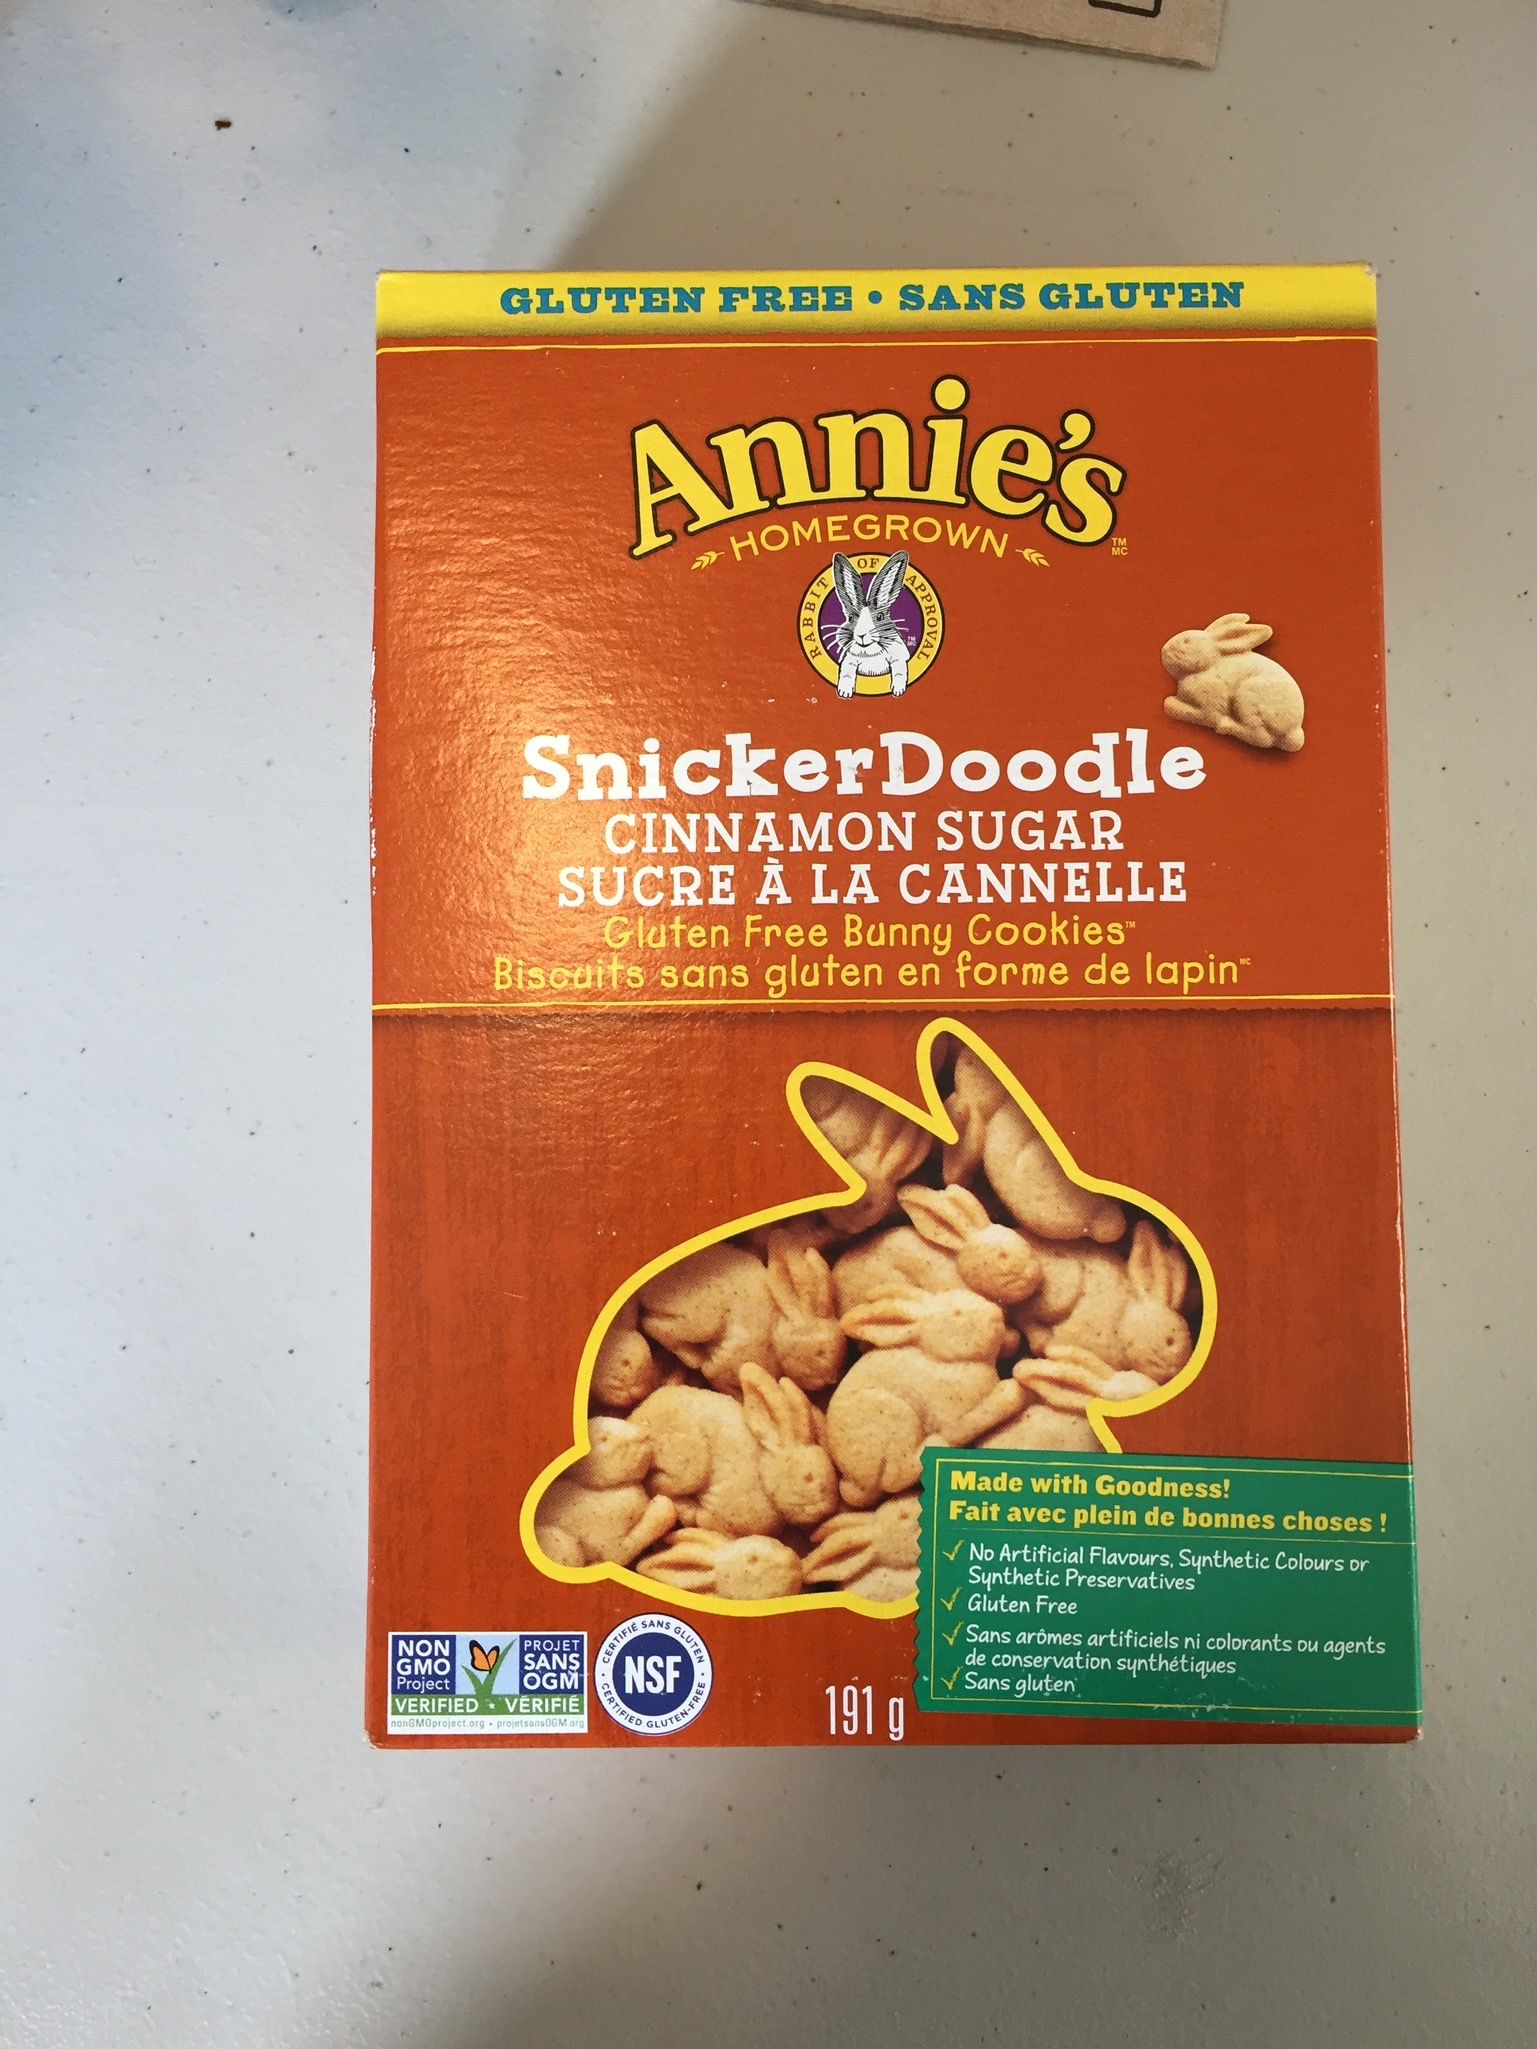annies_snickerdoodle_cinnamon_sugar: (384, 279, 1401, 1737)
